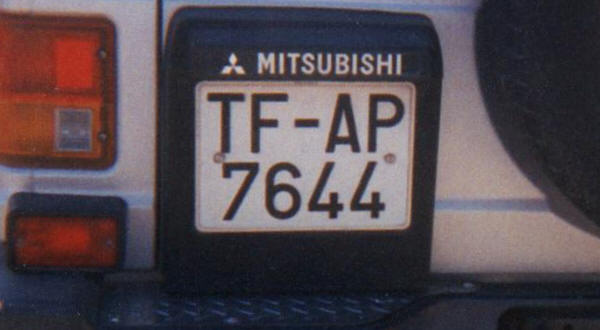license_plate: (194, 81, 418, 232)
